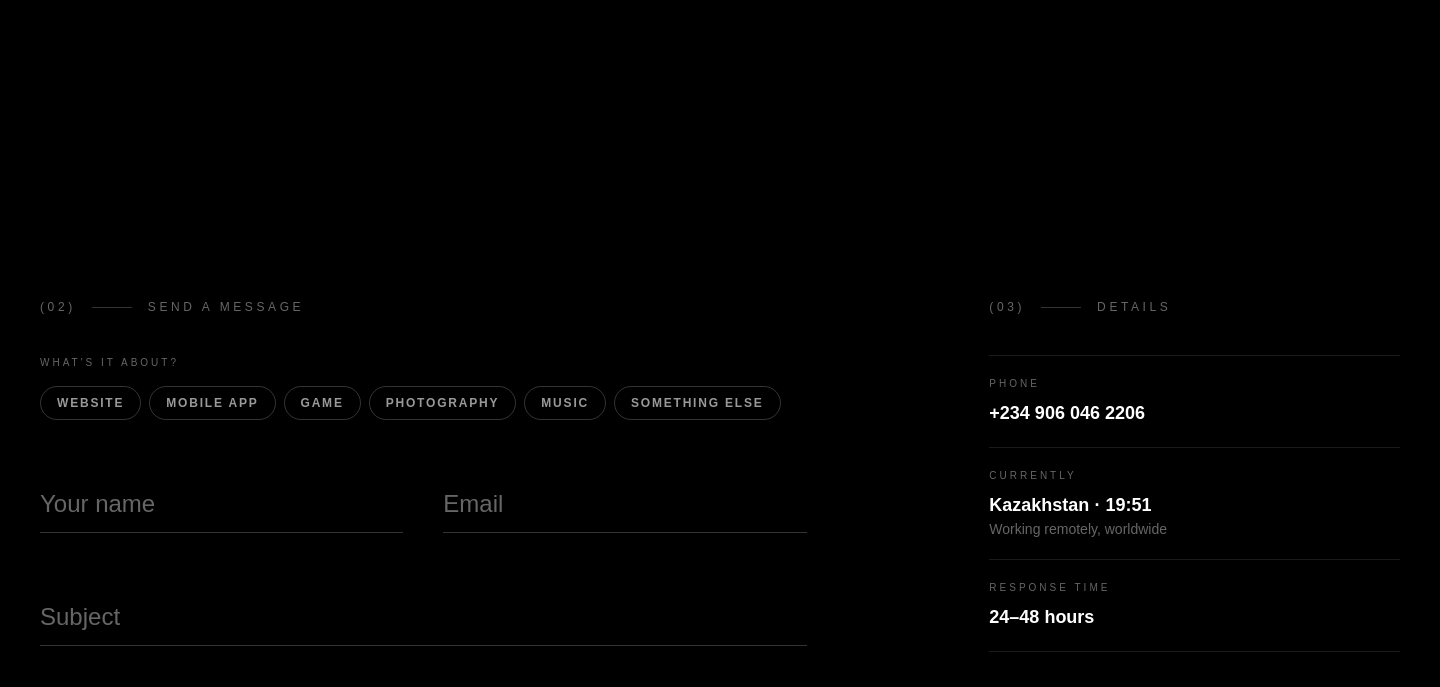
Test: Contact form › posts to /api/contact with the topic in the subject, then confirms
The image size is (1440, 687).
(page scrolled)
Click the button "Website" at (91, 403), box [40,386,141,420]
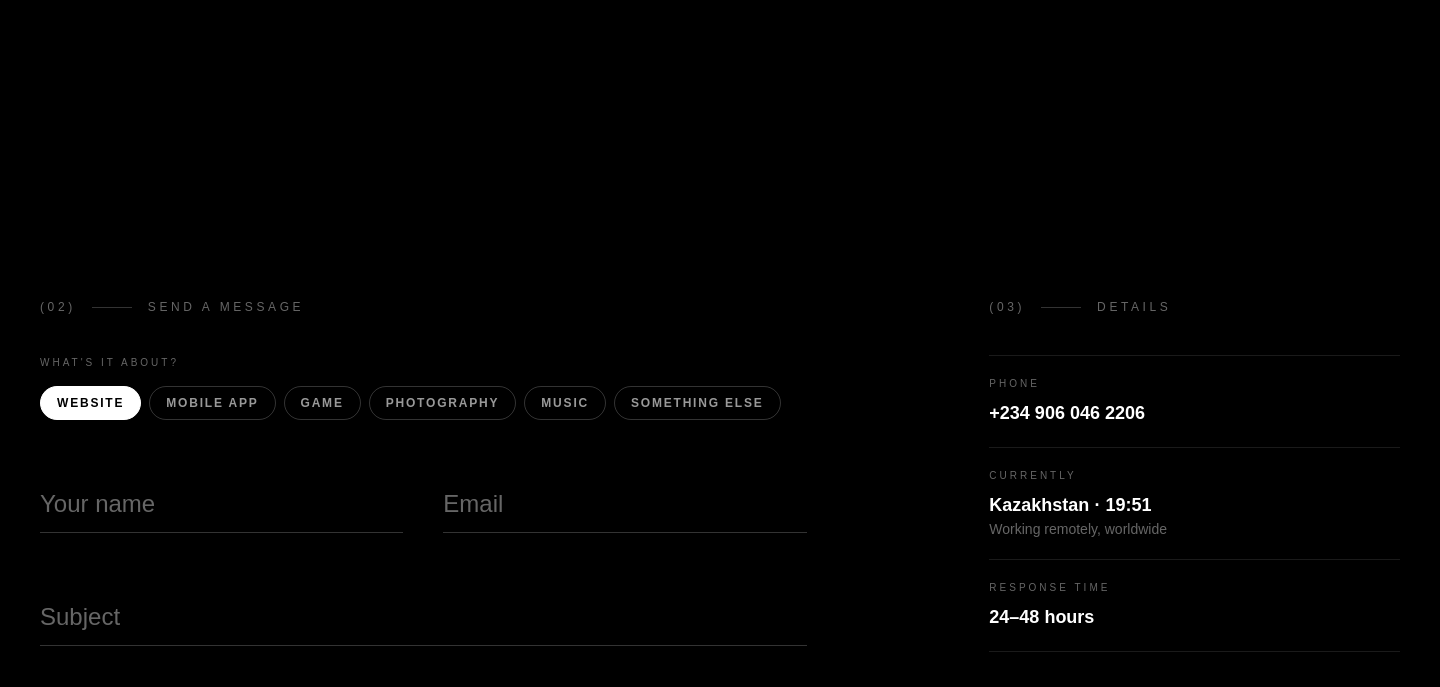
Type "Ada Lovelace" into the field labelled "Your name" at (222, 496), box [40,460,403,533]
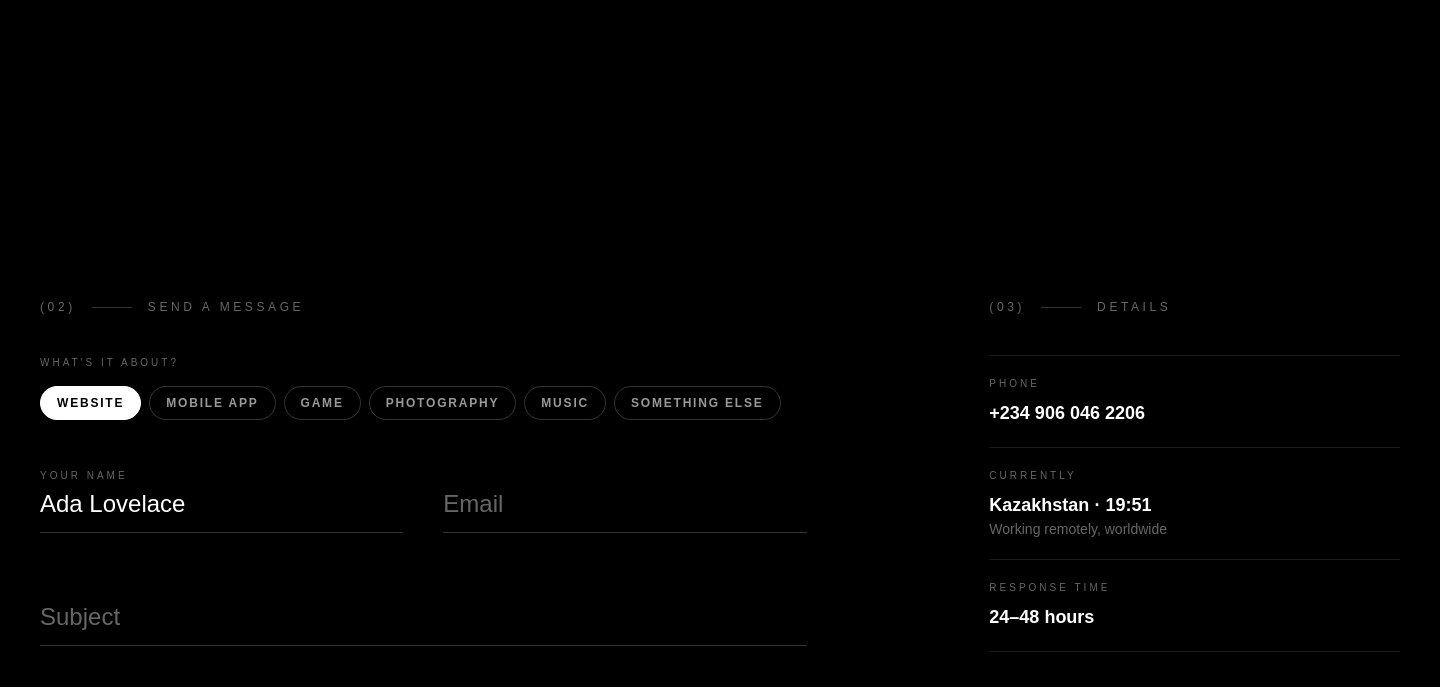
Type "ada@example.com" into the field labelled "Email" at (625, 496), box [443,460,807,533]
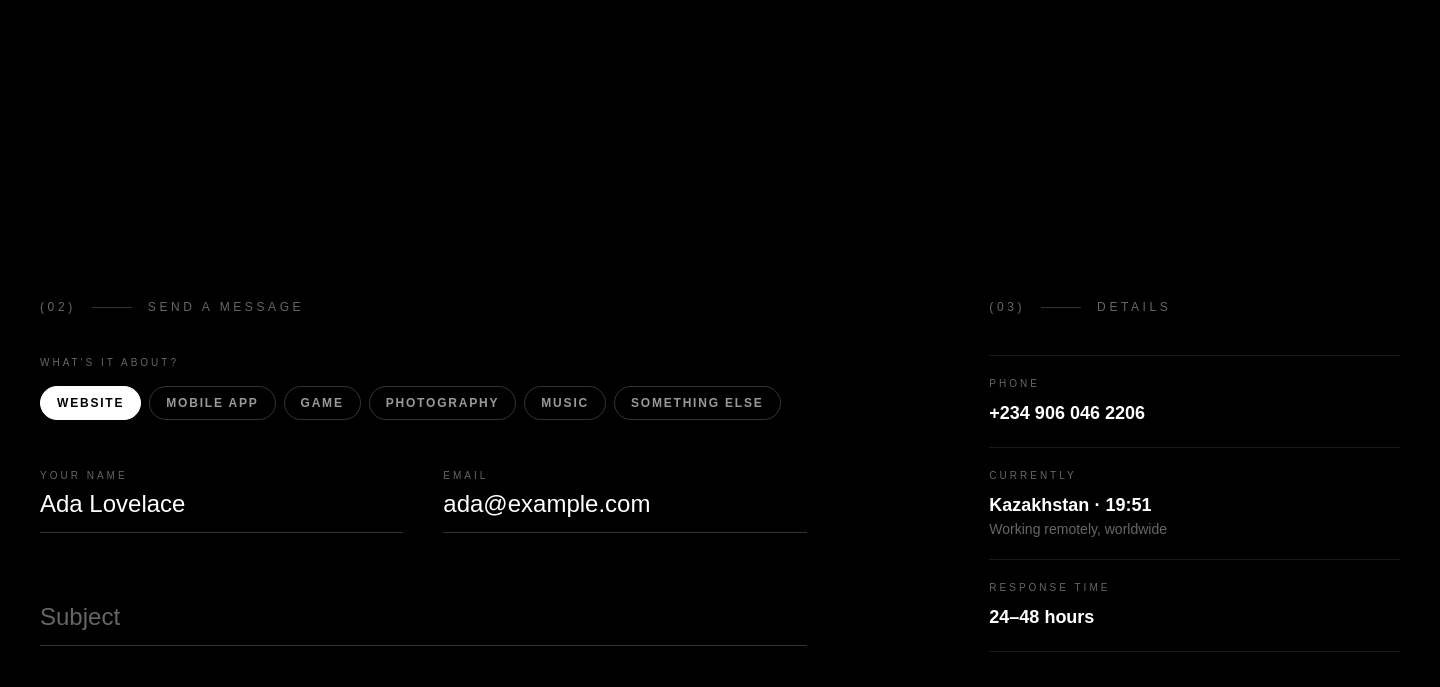
Type "New website" into the field labelled "Subject" at (423, 610), box [40,573,807,646]
(page scrolled)
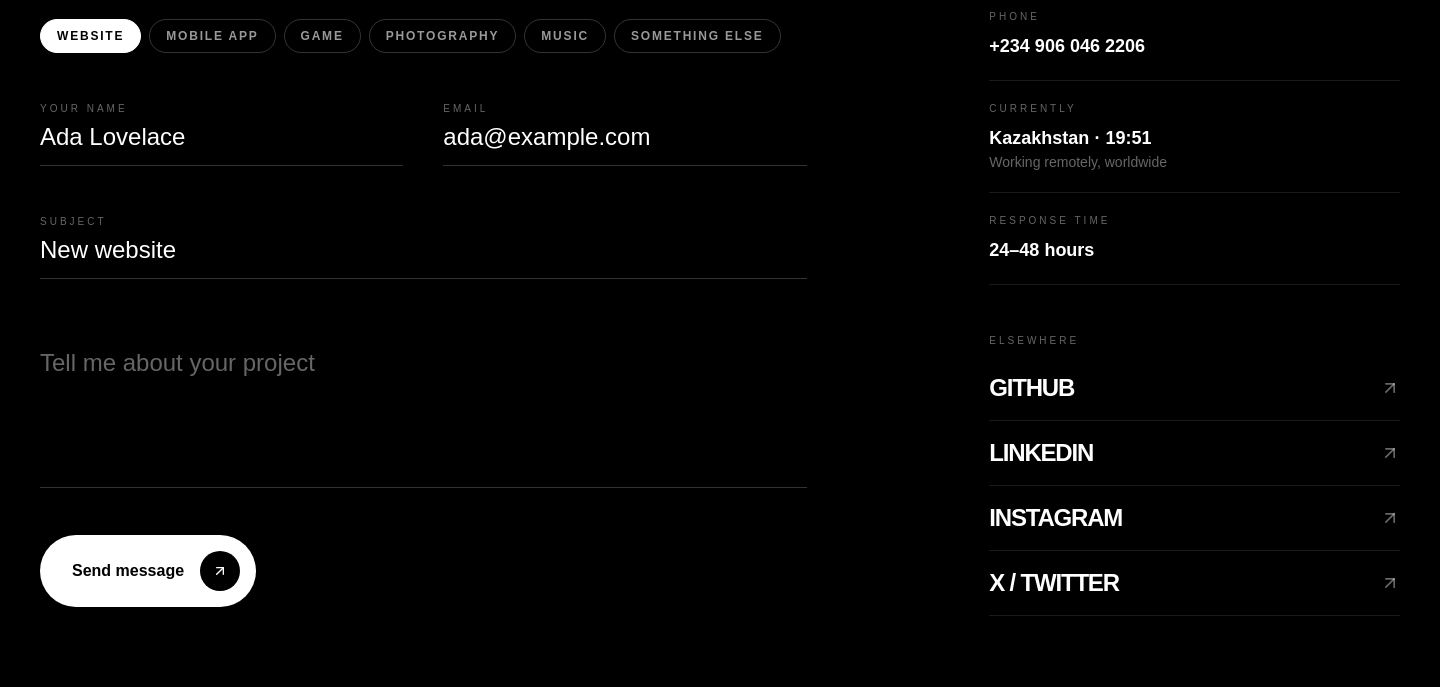
Type "I'd like to build a portfolio site." into the text box labelled "Tell me about your project" at (423, 404), box [40,319,807,488]
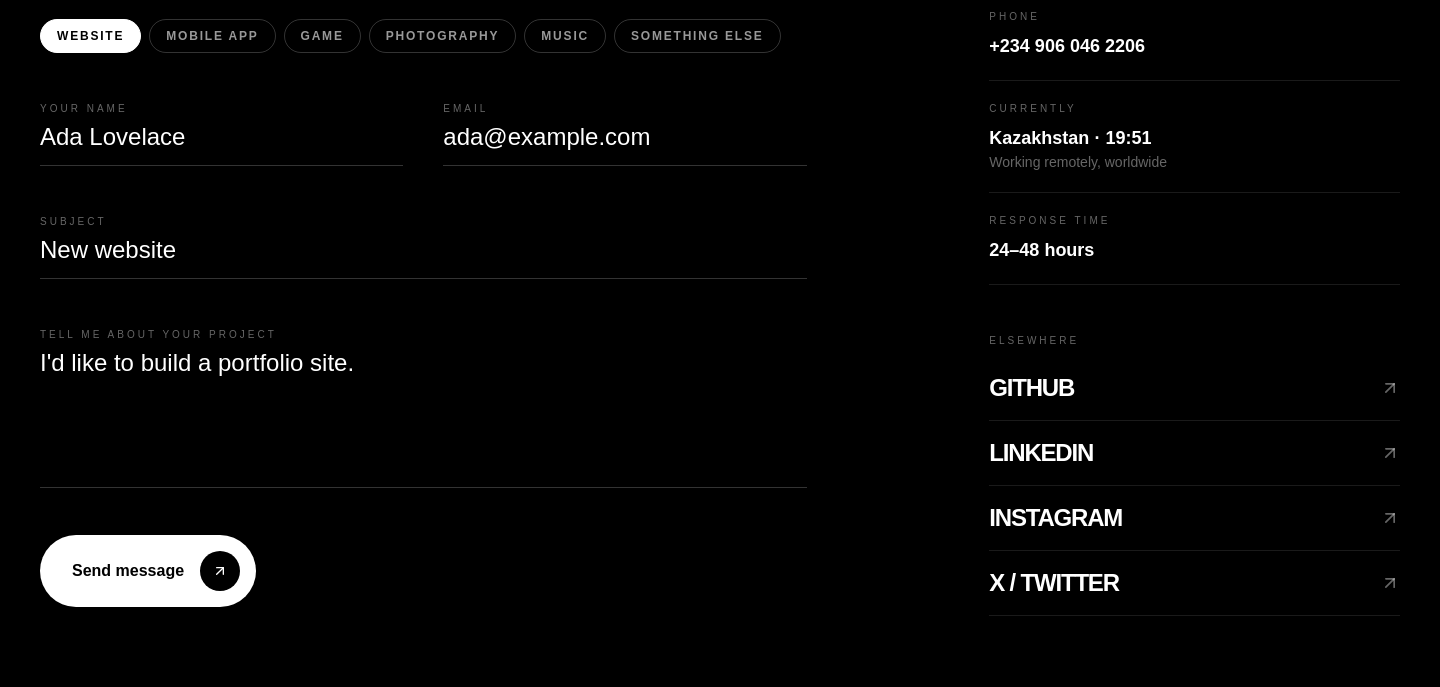
Click the button "Send message" at (148, 571), box [40,535,256,607]
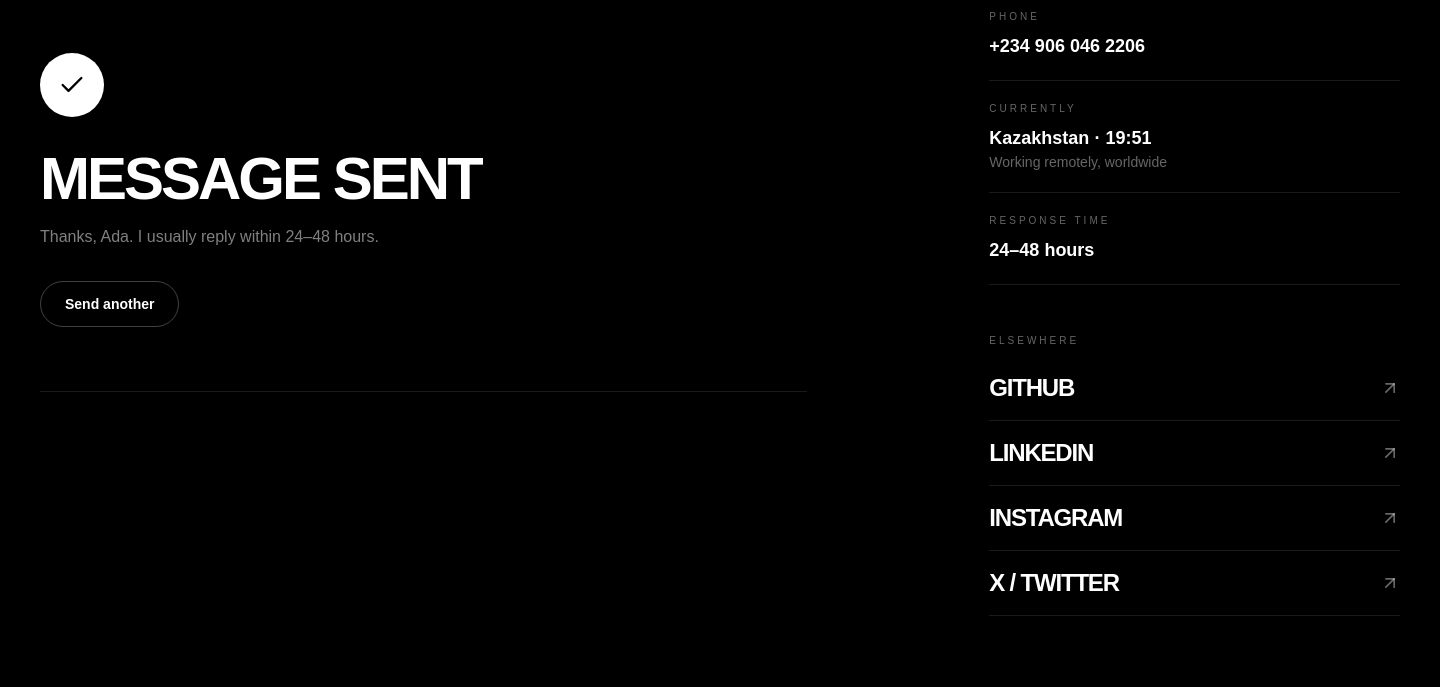
expect the heading "Message sent" is shown: met, box [40,145,481,212]
